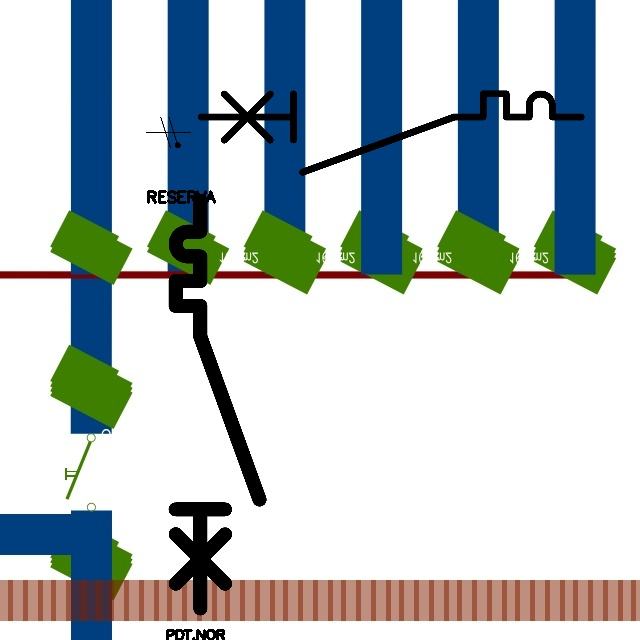interruptor_termomagnetico: (165, 190, 270, 619), (191, 84, 591, 182)
